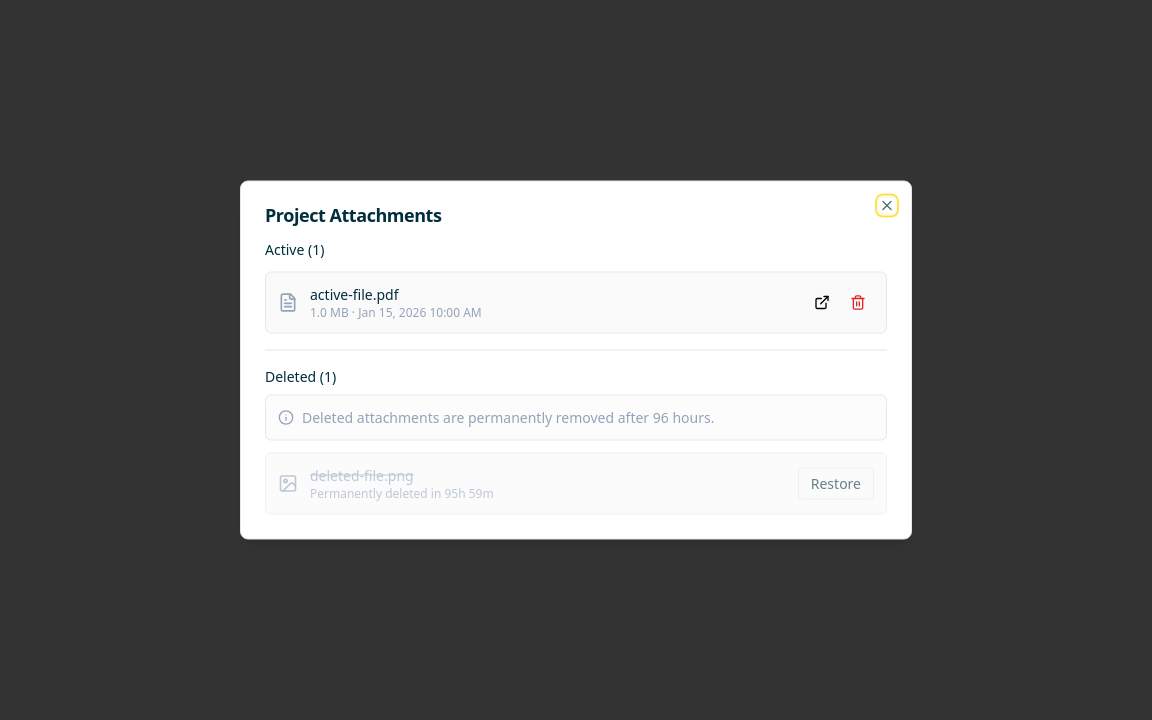
Test: AttachmentsModal › shows delete confirmation on trash click for active attachment
Expected: the text "active-file.pdf" is shown, [310,284,398,304]
# Click delete button
Click the button named "delete attachment".
click(858, 302)  # box [842,286,874,318]
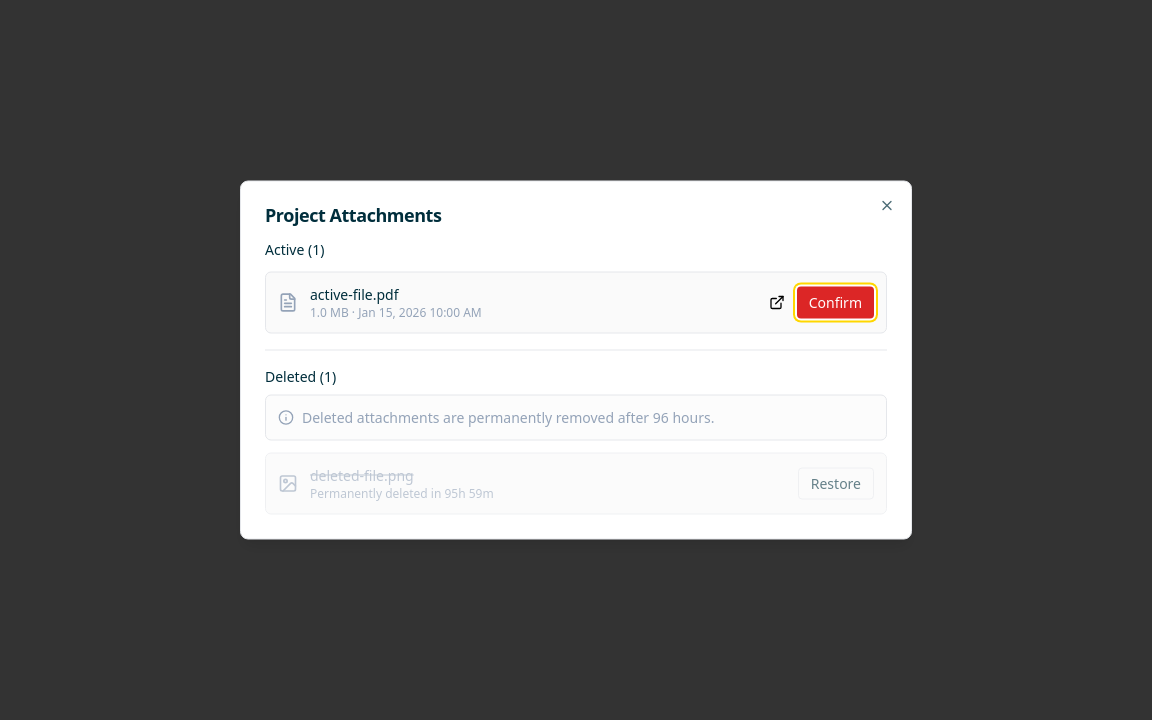
Now the button "Confirm" is shown, box [797,286,874,318]
